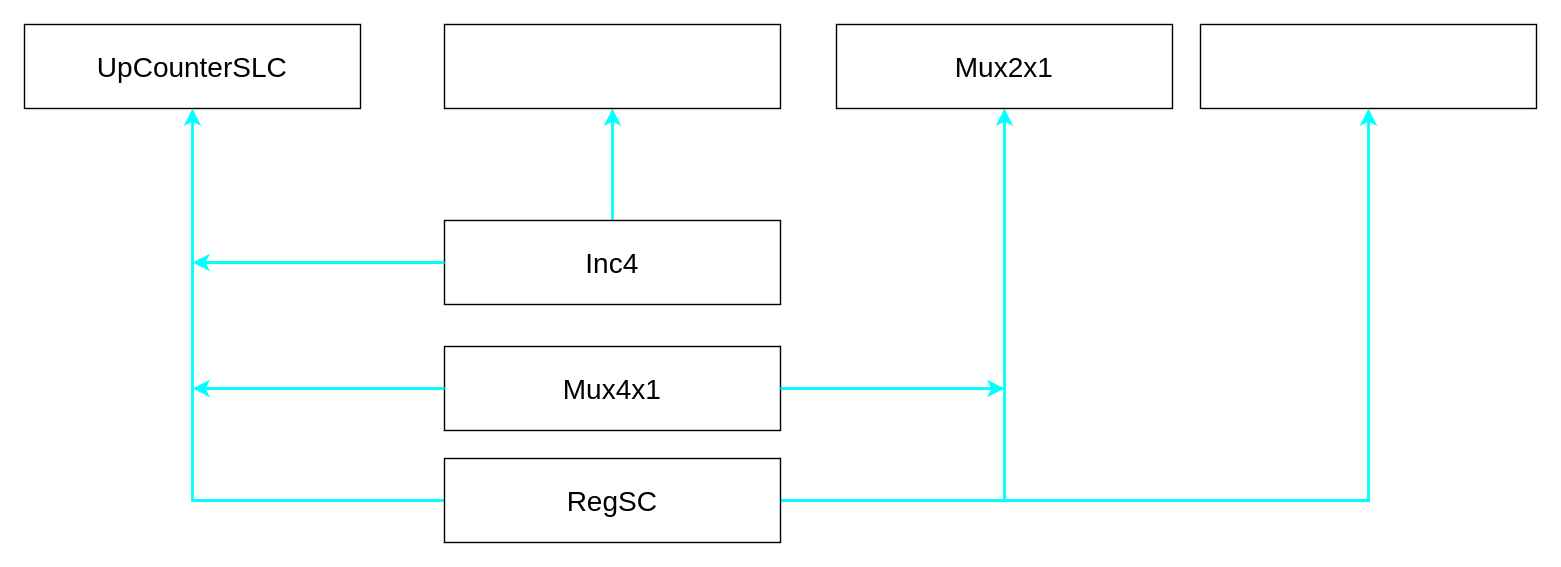
Image size: 1561x567. Some labels were removed from this diagram. Each missing label, with the box of its shape:
HAdder: (443, 23, 780, 108)
Reg4: (1199, 23, 1536, 108)
